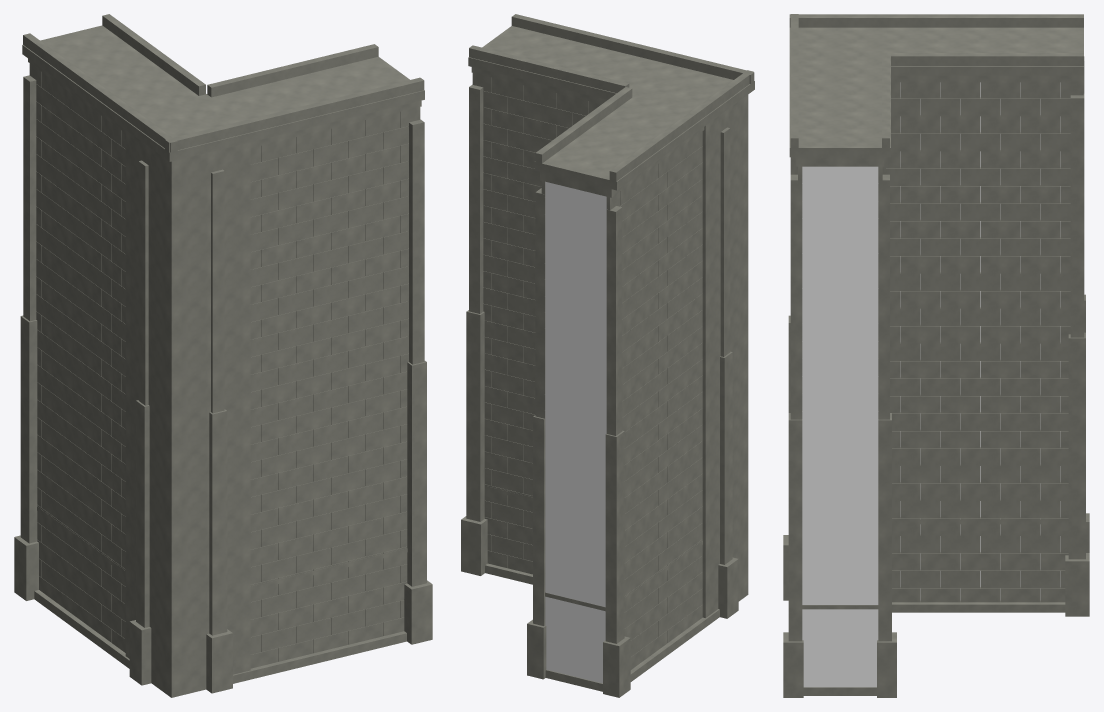
Rendered from GF2_Wall_Corner_24x60_LOD1.fbx.
3 renders of one model, left to right at view 1: azimuth 30°, elevation 25°; view 2: azimuth 150°, elevation 25°; view 3: azimuth 270°, elevation 25°, orthographic. The views are drawn at different scales.
Visible parts, largest first — view 1: GF2_Wall_Corner_24x60_LOD1; view 2: GF2_Wall_Corner_24x60_LOD1; view 3: GF2_Wall_Corner_24x60_LOD1.
Boxes of the visible parts, x1=… form: GF2_Wall_Corner_24x60_LOD1: x1=14, y1=14, x2=432, y2=697; GF2_Wall_Corner_24x60_LOD1: x1=461, y1=14, x2=754, y2=697; GF2_Wall_Corner_24x60_LOD1: x1=783, y1=14, x2=1089, y2=697.
Bounding box in the file's own units: 30.15 × 60.55 × 30.15.
